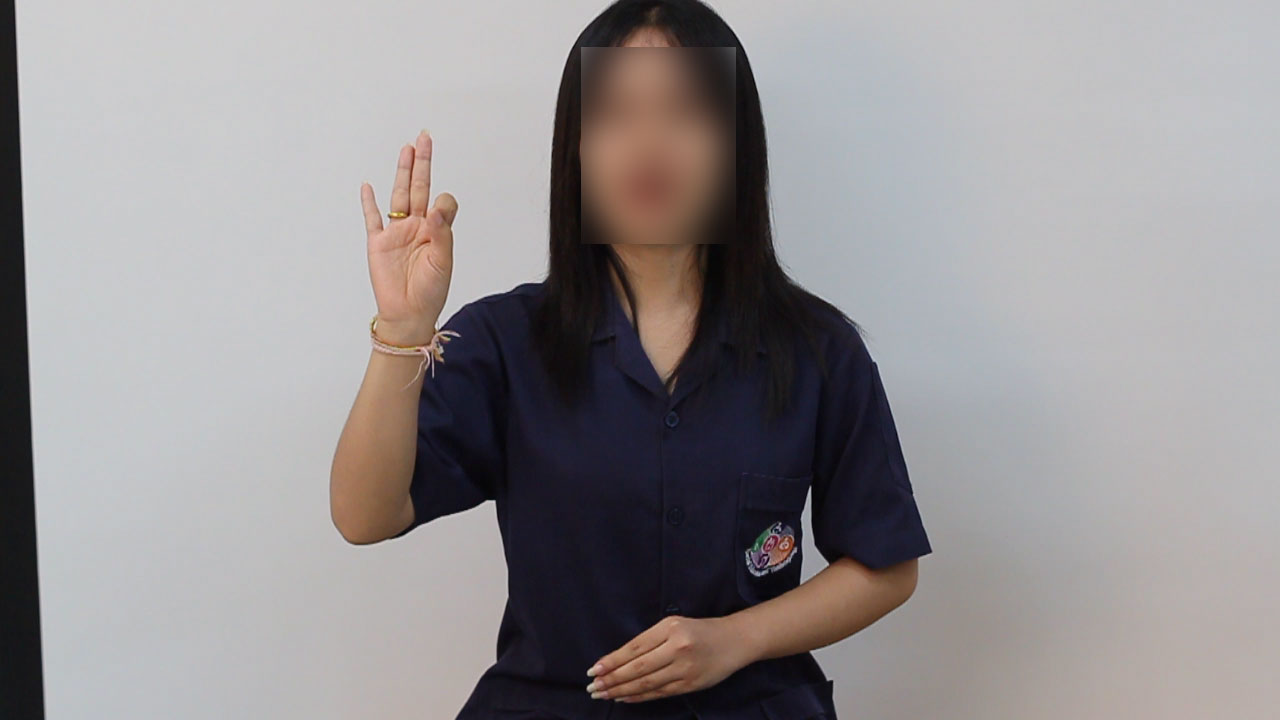for: (351, 118, 468, 351)
